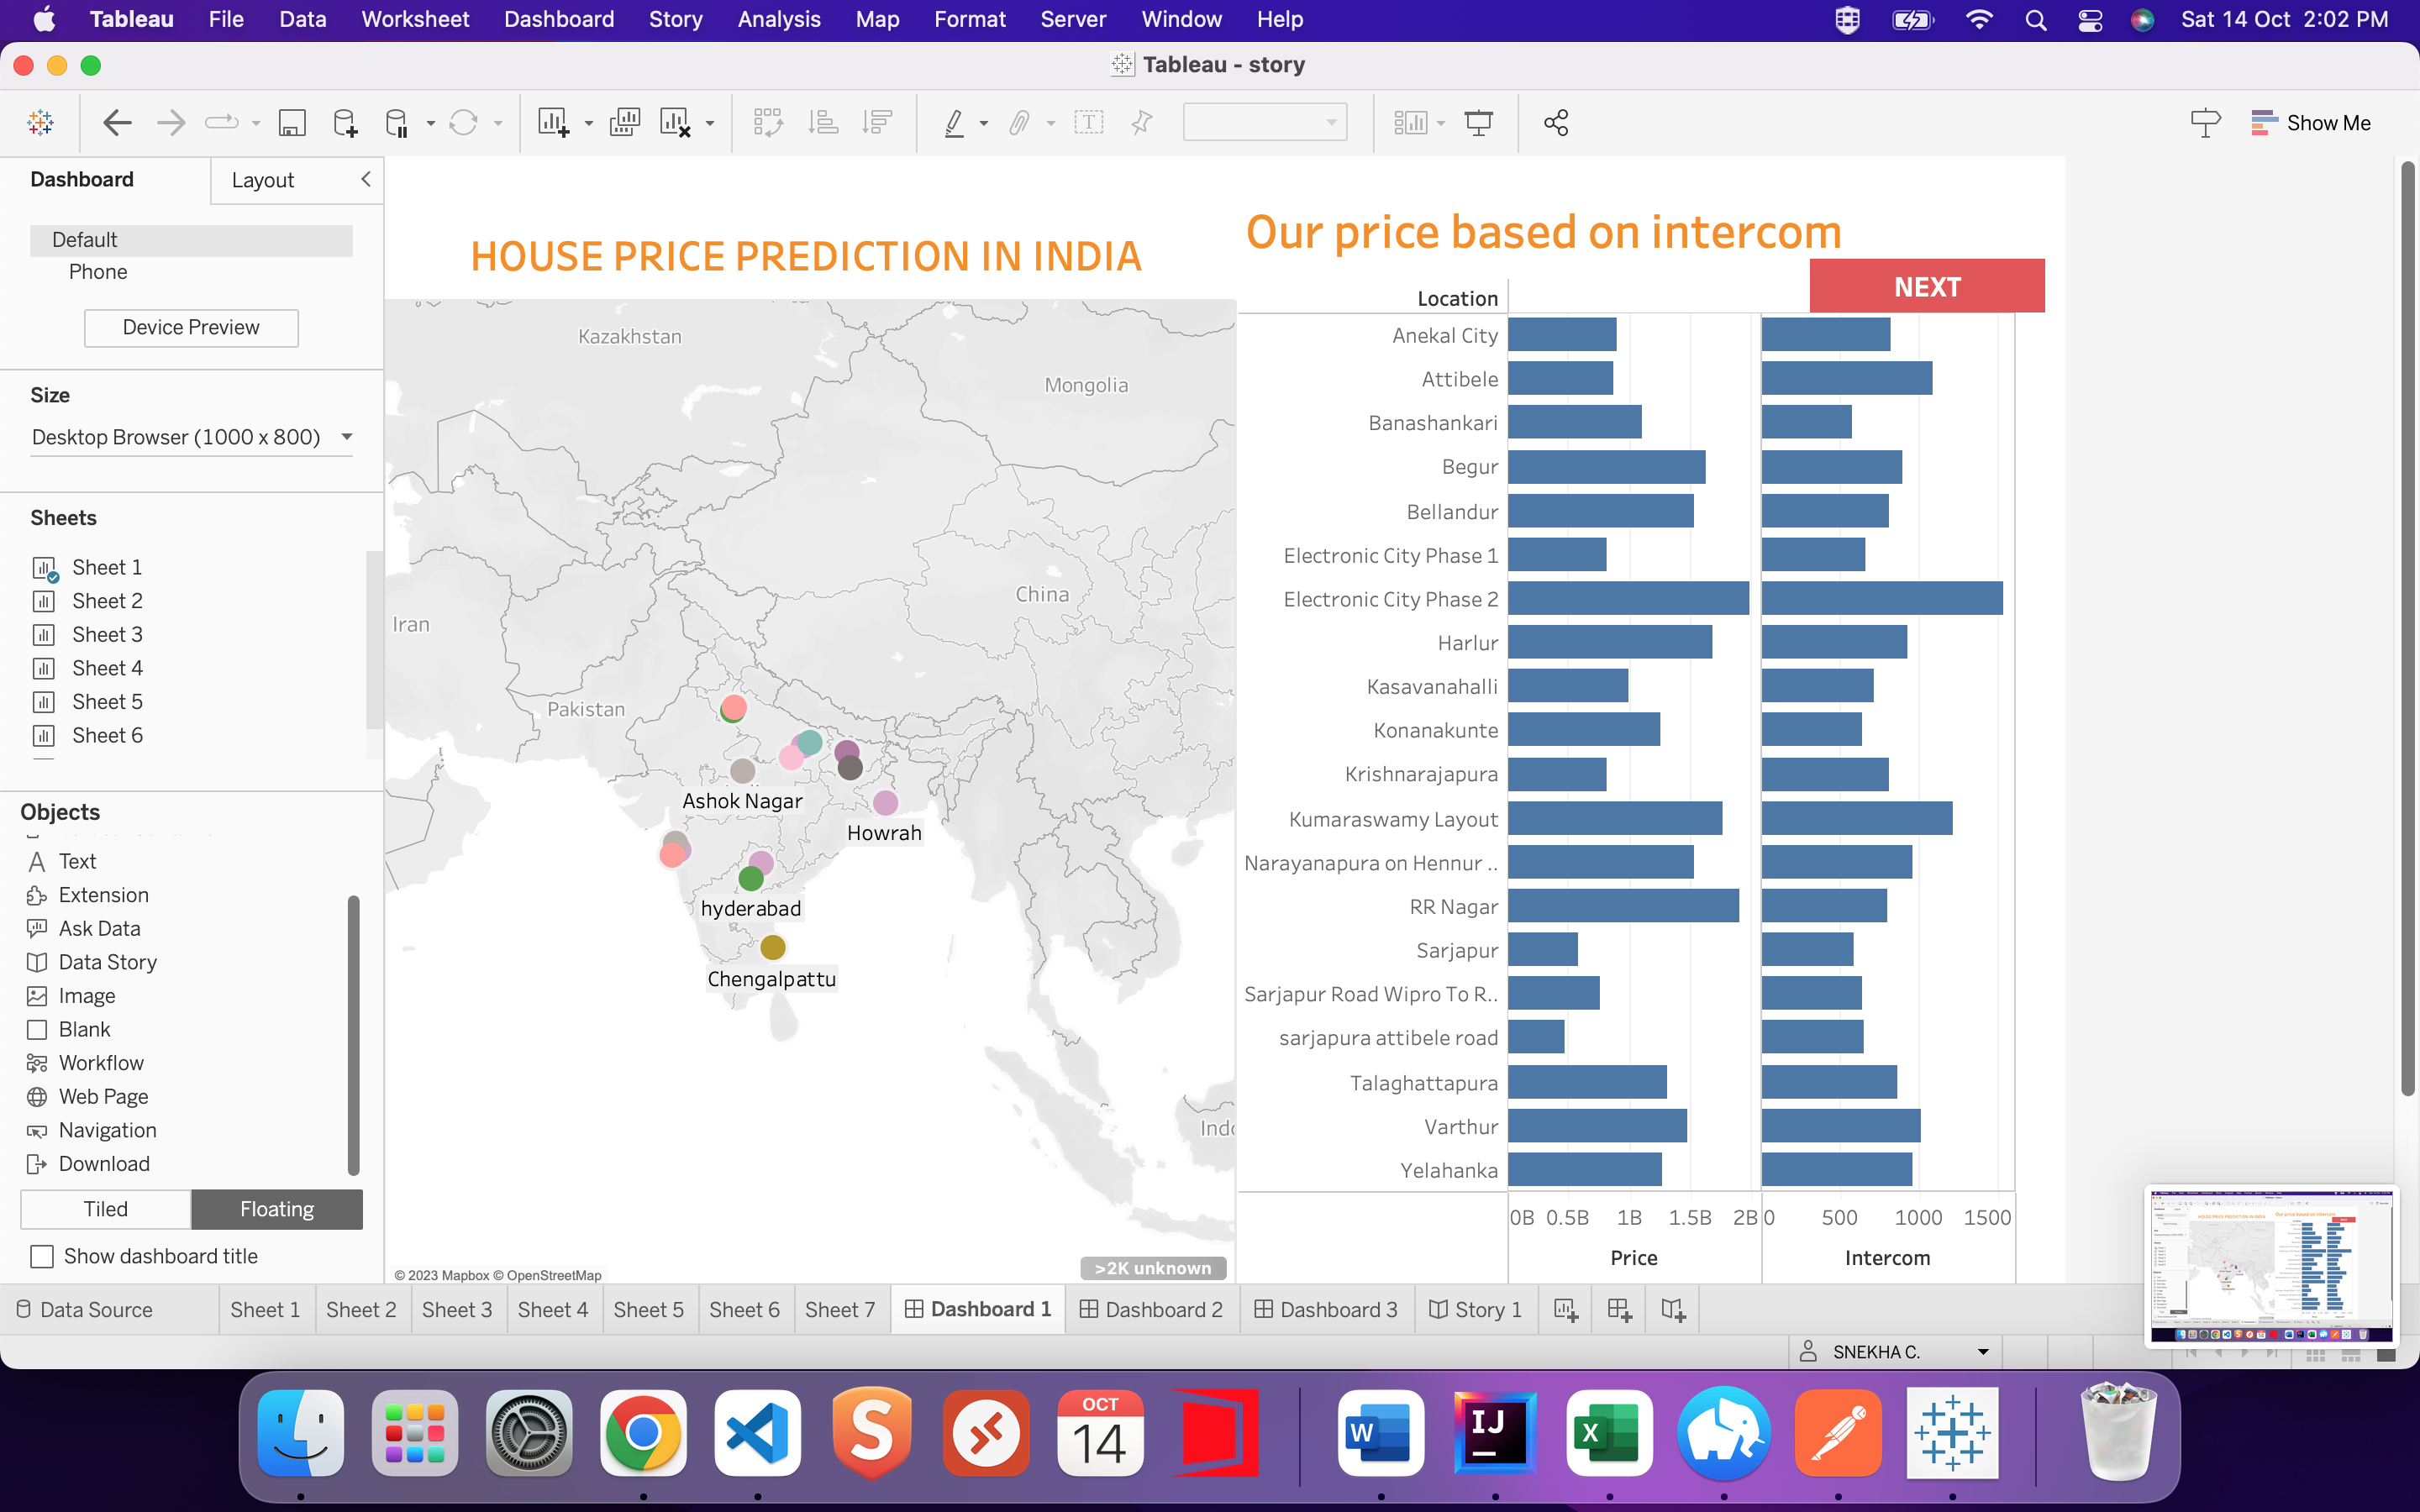

What the dashboard file says about the page in this screenshot:
{"tool":"tableau","page":{"name":"Dashboard 1","canvas":[1000,800],"ordinal":0},"visuals":[{"type":"worksheet","title":"Sheet 7","mark":"Automatic","rows":["Location"],"cols":["Price","Intercom"],"box":[508,21,463,651]},{"type":"worksheet","title":"Sheet 1","mark":"Automatic","box":[0,38,507,637]},{"type":"dashboard-object","box":[848,61,140,32]}]}

Visuals, with their boxes on the page's 1000x800 design canvas (x1, y1, x2, y2). These are canvas units, not pixel positions in the 2420x1512 screenshot, which may show the page scaled, cropped or inside an application window:
"Sheet 7" worksheet: x1=508 y1=21 x2=971 y2=672
"Sheet 1" worksheet: x1=0 y1=38 x2=507 y2=675
dashboard-object: x1=848 y1=61 x2=988 y2=93
